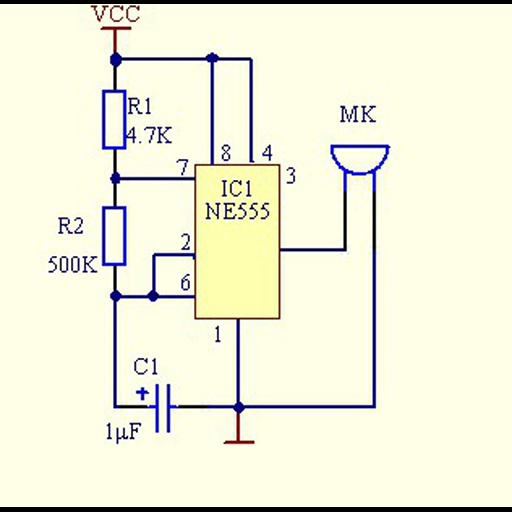firstpolarcapacitor: (132, 382, 181, 434)
firstresistance: (95, 202, 134, 270), (94, 86, 128, 151)
